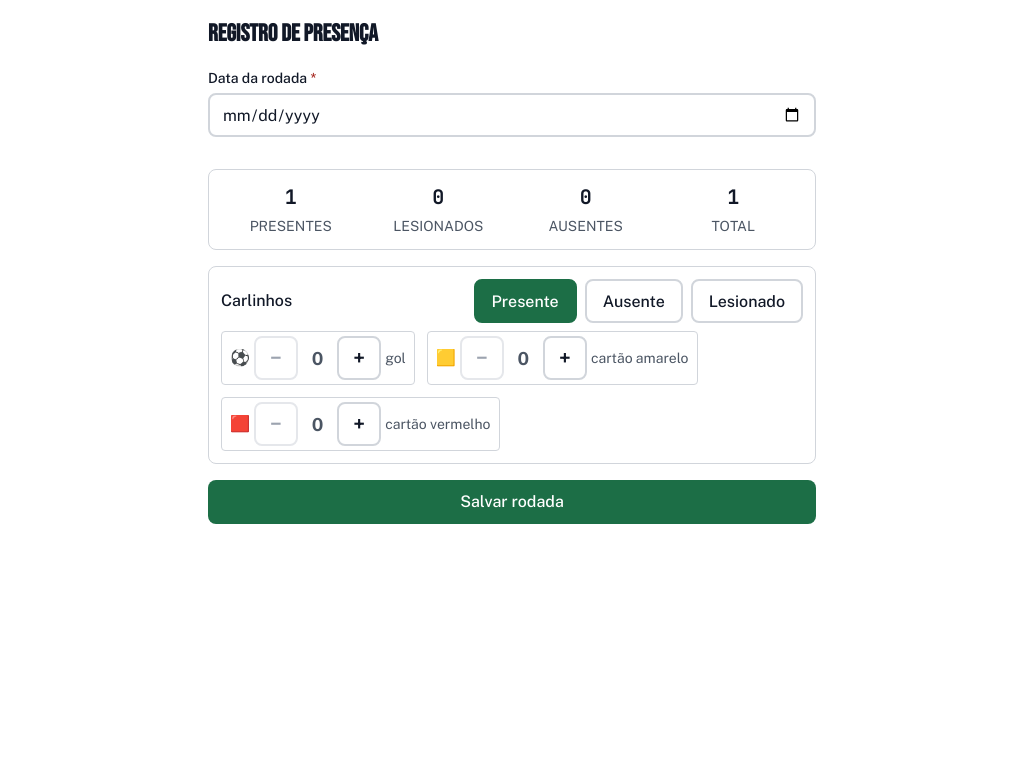
LancamentoRodadaForm › falha na transação: mensagem nunca sugere salvamento parcial (RNF-10) e o modal permanece aberto para nova tentativa
Expected: the heading "Registro de presença" is shown, [208,19,378,48]
In the date field labelled "Data da rodada *": (512, 115) [208,93,816,137], type "2026-09-05"
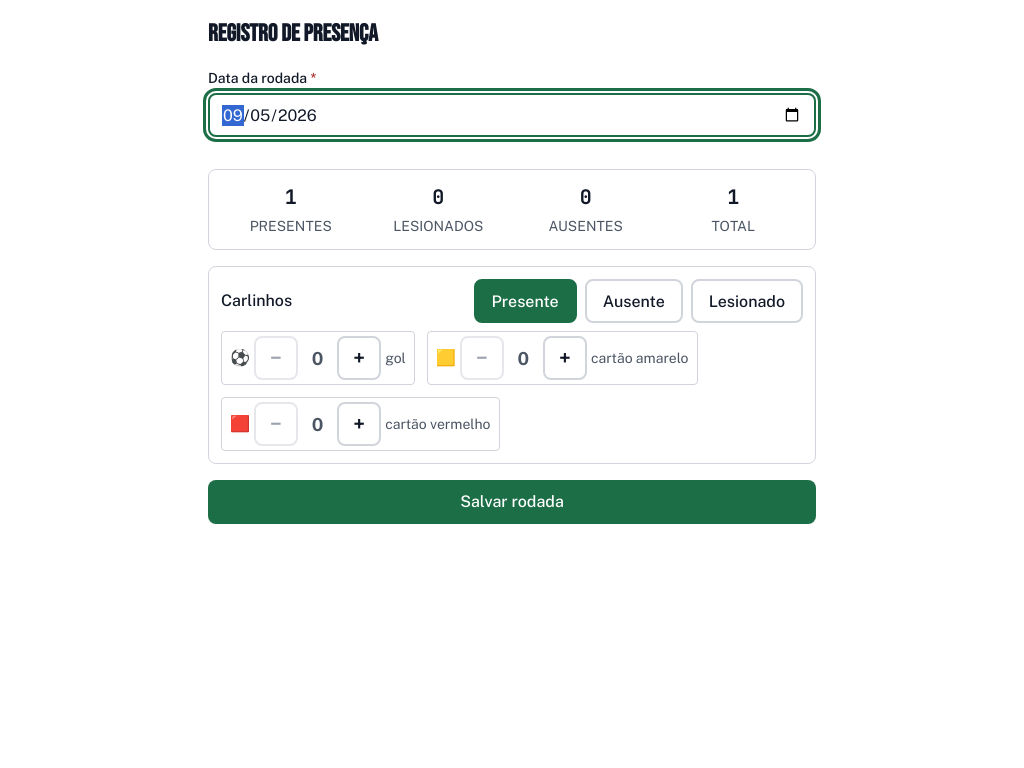
Click the button "Salvar rodada": (512, 502) [208,480,816,524]
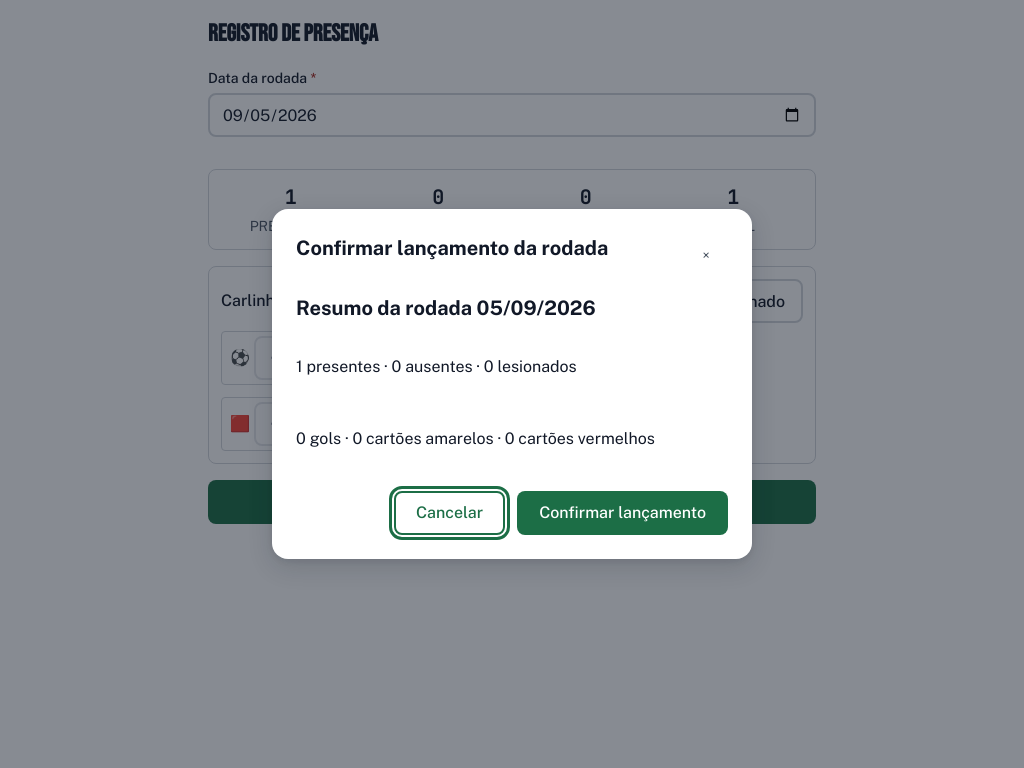
Click the button "Confirmar lançamento": (623, 513) [517,491,728,535]
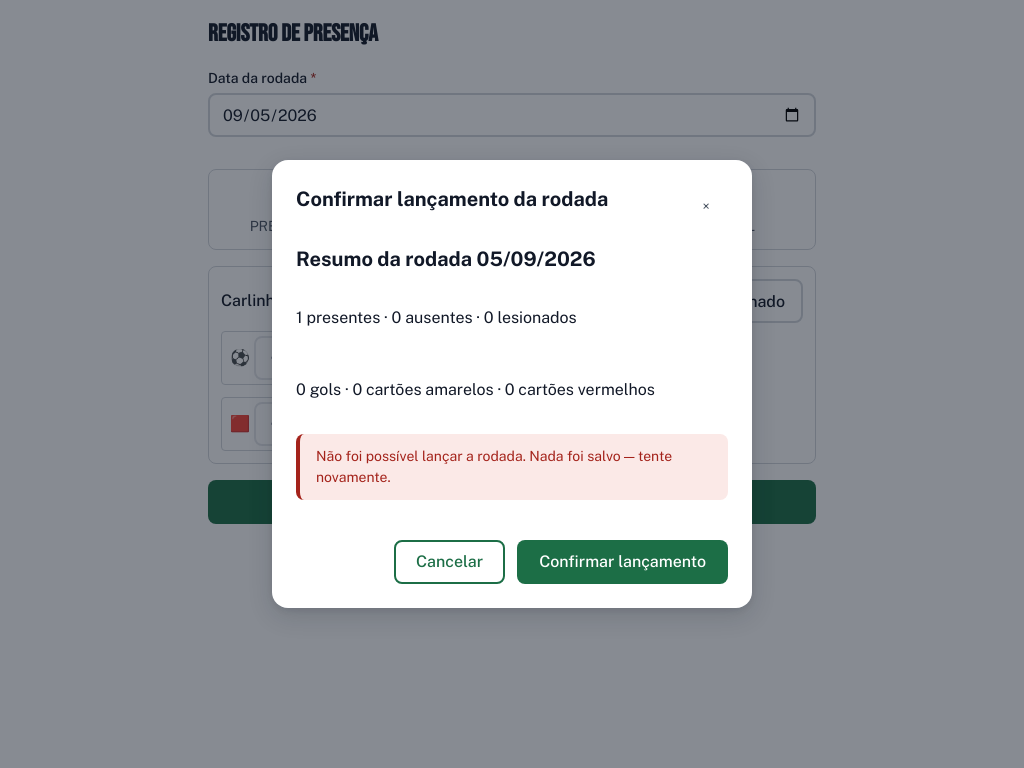
Expected: the dialog "Confirmar lançamento da rodada" is shown, [272,160,752,608]
Expected: the text "Não foi possível lançar a rodada. Nada foi salvo — tente novamente." is shown, [296,434,728,500]
